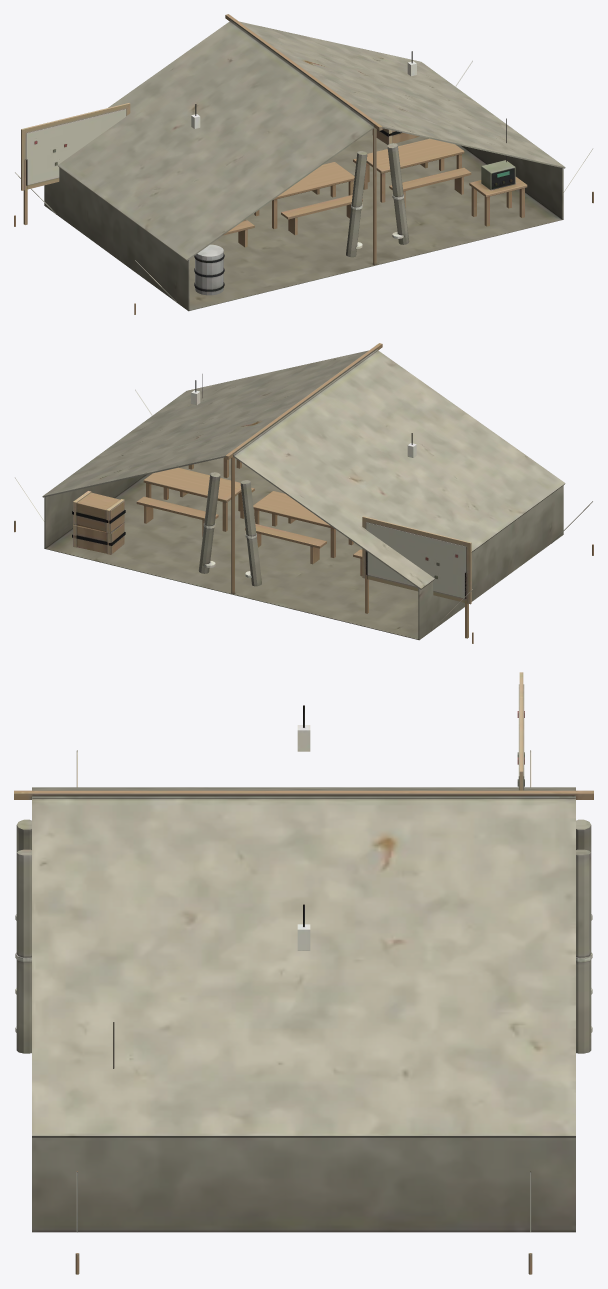
File: d_tentbig.glb
The picture shows the model from 3 angles, top to bottom: view 1: azimuth 30°, elevation 25°; view 2: azimuth 150°, elevation 25°; view 3: azimuth 270°, elevation 25°; orthographic projection. The views are drawn at different scales.
Parts seen in each view (by area): view 1: BldU_Roof, BldU_Shell, BldU_Interior; view 2: BldU_Roof, BldU_Shell, BldU_Interior; view 3: BldU_Roof, BldU_Shell, BldU_Interior.
Boxes of the visible parts, x1,y1,x2,y2 form: BldU_Roof: (57,14,565,260); BldU_Shell: (14,60,593,314); BldU_Interior: (21,51,527,295); BldU_Roof: (42,343,565,589); BldU_Shell: (14,389,593,643); BldU_Interior: (72,374,471,638); BldU_Roof: (14,787,593,1137); BldU_Shell: (15,750,592,1274); BldU_Interior: (113,672,524,1068).
Size of the model in its own units: 11.03 by 3.3 by 6.4.
3 materials, 3 textured.
